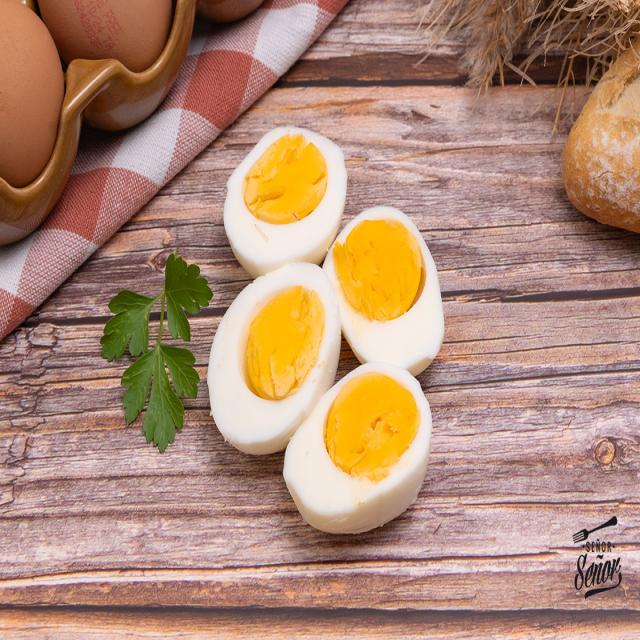huevos: (282, 358, 441, 556), (202, 267, 353, 457), (318, 193, 452, 379), (218, 116, 349, 270)
